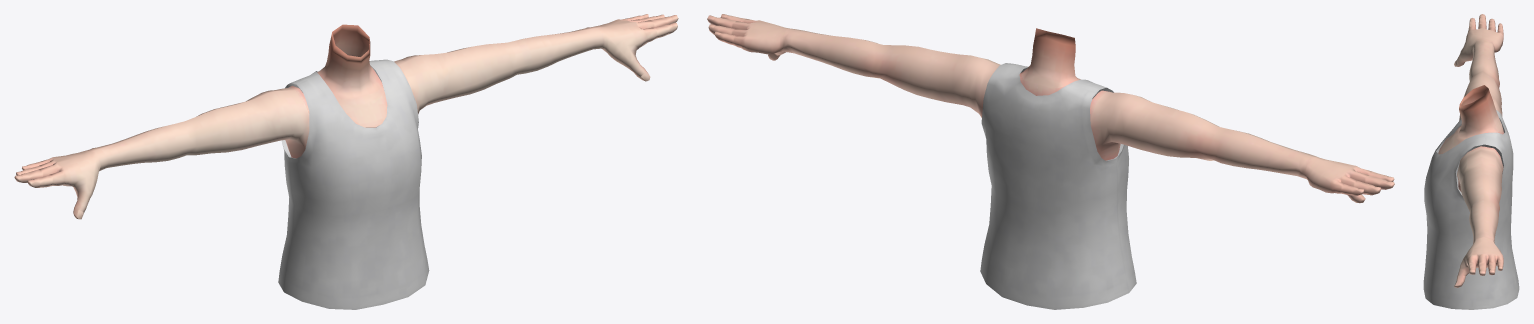
File: tr0740_00_upb01.gltf
3 views of the same model, side by side, from view 1: azimuth 30°, elevation 25°; view 2: azimuth 150°, elevation 25°; view 3: azimuth 270°, elevation 25° (orthographic). The views are drawn at different scales.
Visible parts, largest first — view 1: upb01_cloth_mesh_shape:upperbody01, upb01_upperbody_mesh_shape:upperbody01_skin; view 2: upb01_cloth_mesh_shape:upperbody01, upb01_upperbody_mesh_shape:upperbody01_skin; view 3: upb01_cloth_mesh_shape:upperbody01, upb01_upperbody_mesh_shape:upperbody01_skin.
Part boxes in pixels (box(x1,y1,x2,y2)): upb01_cloth_mesh_shape:upperbody01: box(278, 59, 429, 309); upb01_upperbody_mesh_shape:upperbody01_skin: box(14, 14, 678, 219); upb01_cloth_mesh_shape:upperbody01: box(980, 63, 1136, 309); upb01_upperbody_mesh_shape:upperbody01_skin: box(707, 14, 1394, 203); upb01_cloth_mesh_shape:upperbody01: box(1423, 110, 1519, 309); upb01_upperbody_mesh_shape:upperbody01_skin: box(1438, 14, 1503, 287).
Size of what is drawn, in the model's own units: 1.63 by 0.59 by 0.2561.
Materials: 2 (2 with a texture image).
